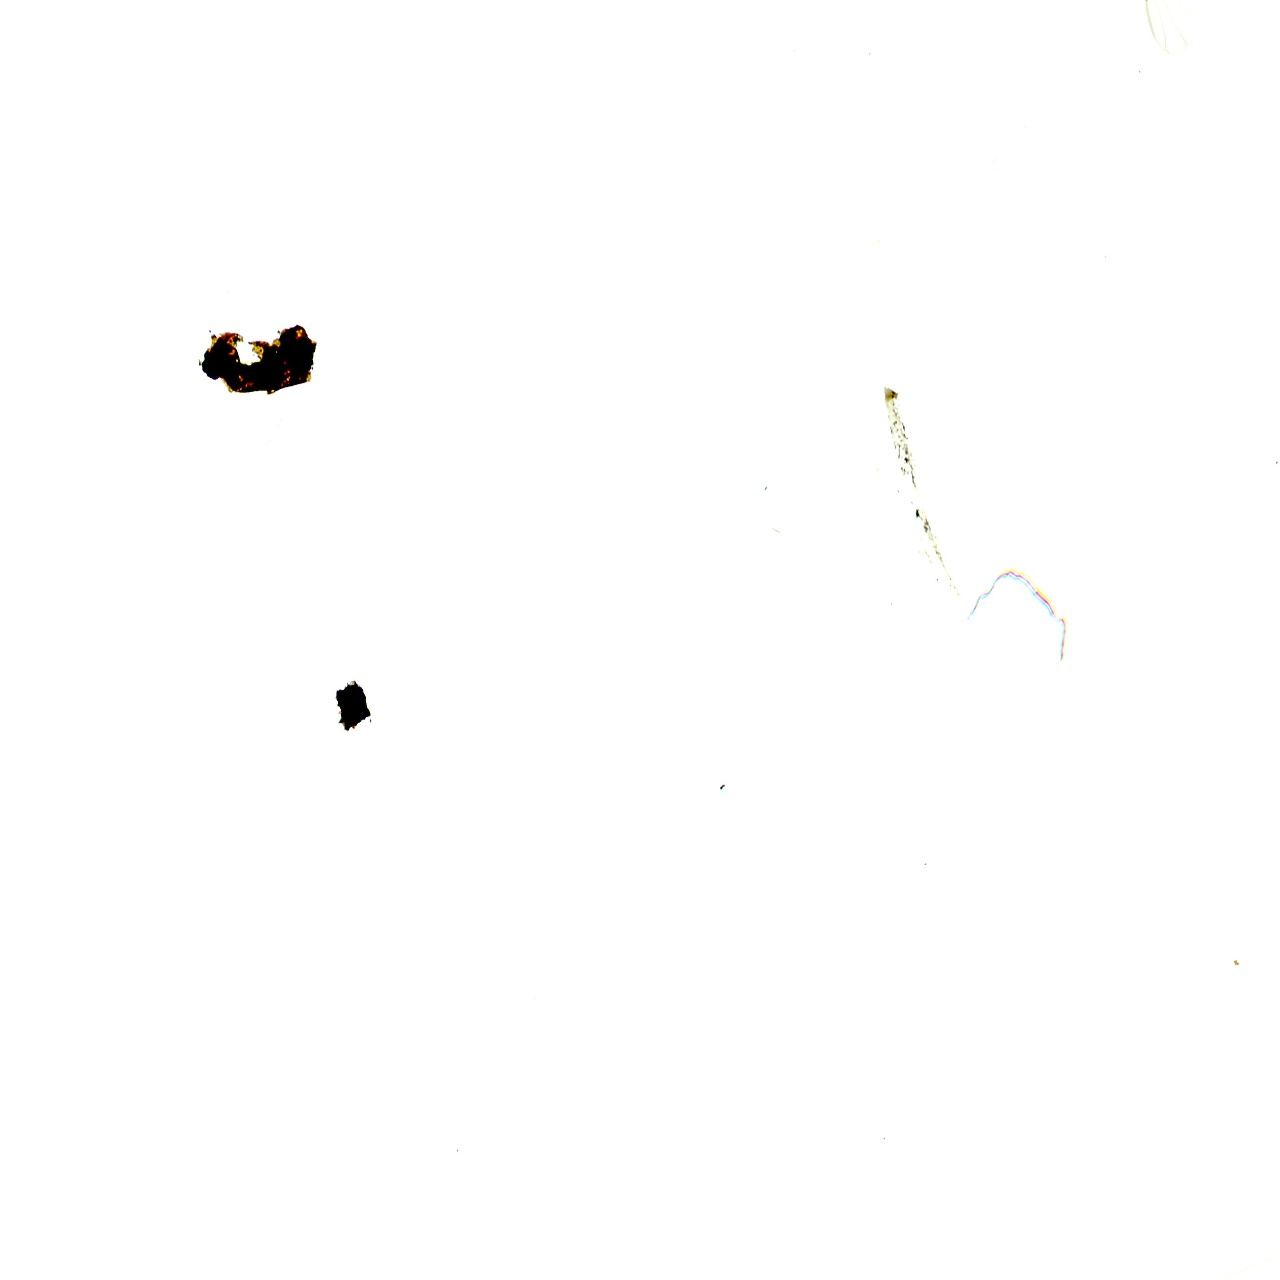arthropod: (1105, 0, 1258, 54)
